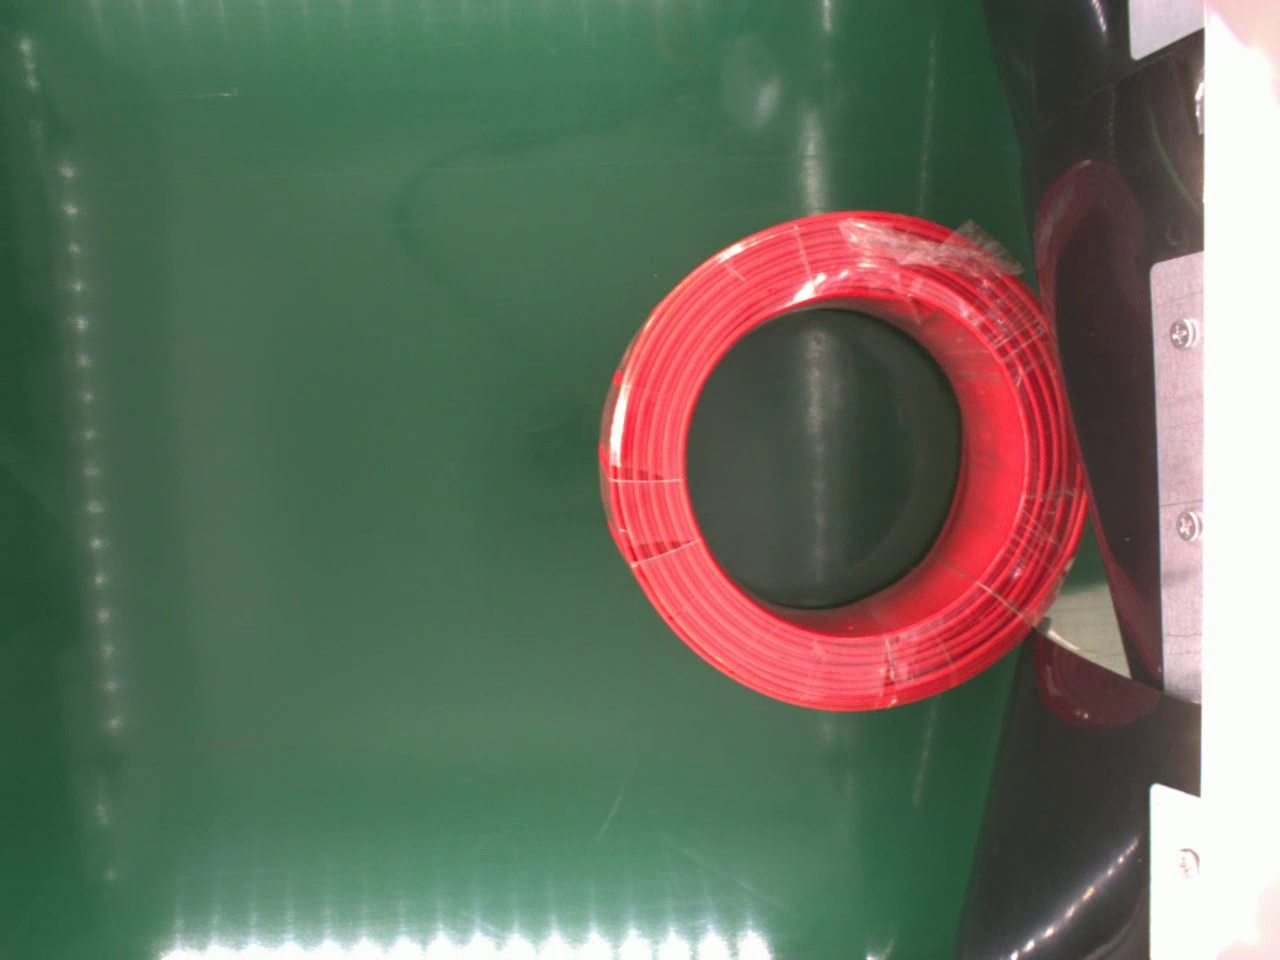red: (592, 204, 1084, 715)
